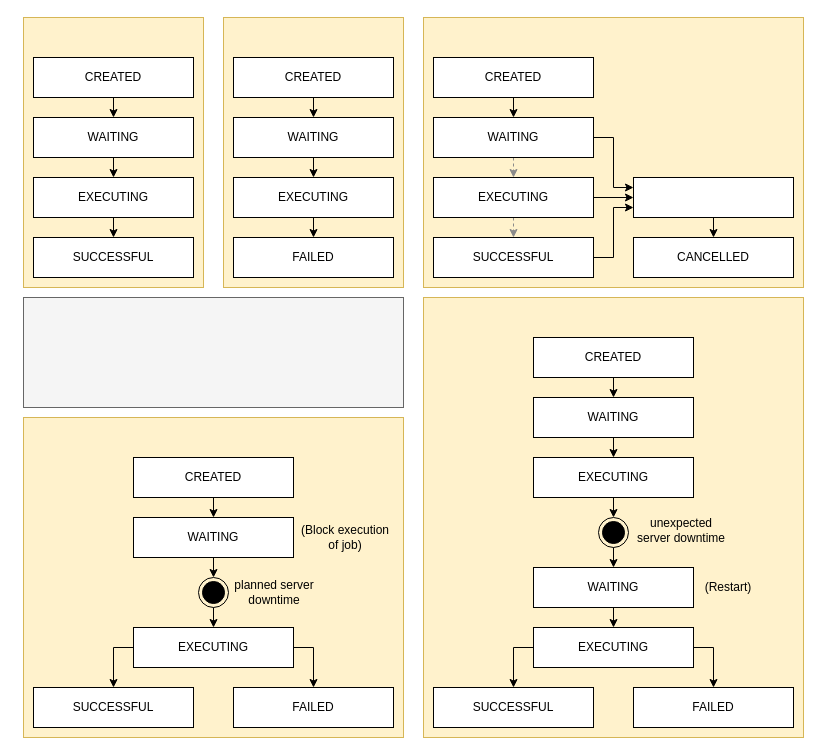
This 821x755 diagram has some shape labels left out. Each missing label, with the centre of its shape:
CANCELLATION_REQUESTED: the point at 713,197
Life cycle "job status" of a linking job in Geolinking Service SoRa: the point at 213,352
